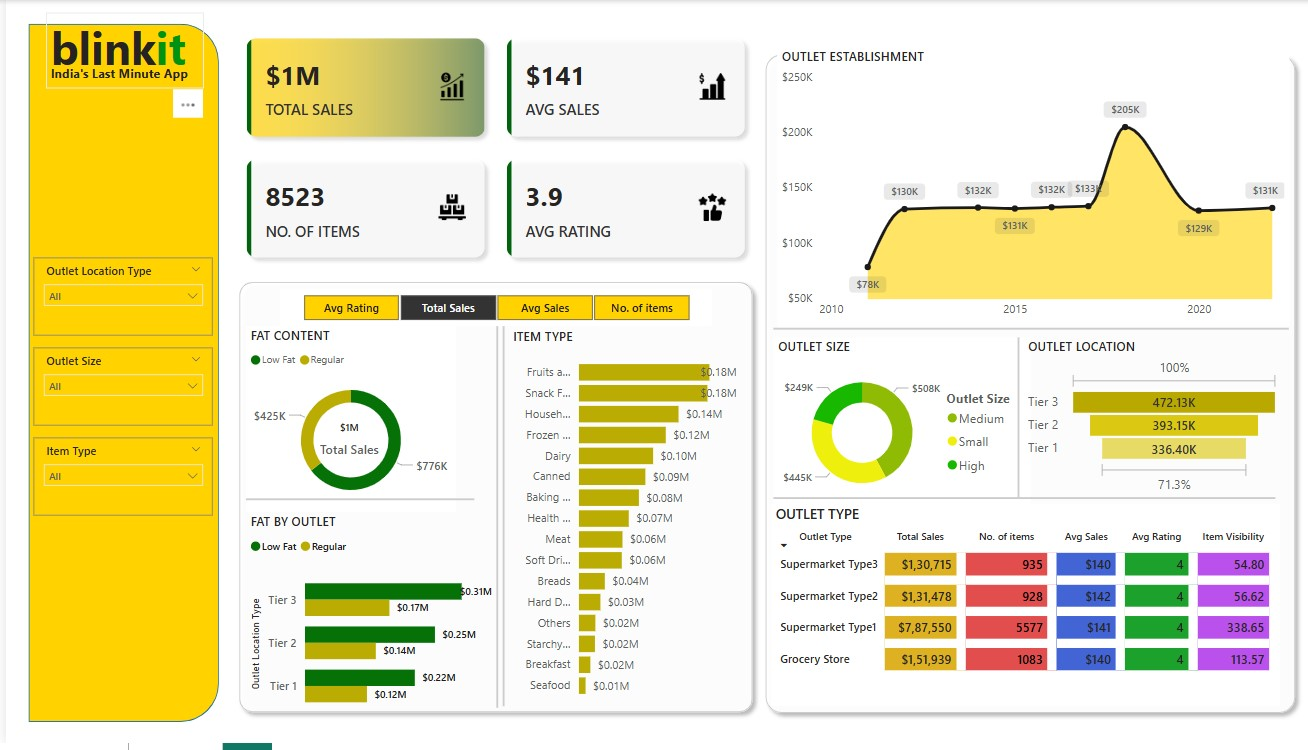

This screenshot's page, from the dashboard's own definition file:
{"tool":"powerbi","page":{"name":"Page 1","canvas":[1400,800],"ordinal":0},"visuals":[{"type":"shape","box":[23.7,25.4,205.1,750.8],"z":0},{"type":"textbox","box":[42.4,13.6,169.5,81.4],"z":1000},{"type":"textbox","box":[42.4,64.4,169.5,61],"z":2000},{"type":"cardVisual","fields":{"Data":["BlinkIT Grocery Data.Total Sales","BlinkIT Grocery Data.Avg Sales","BlinkIT Grocery Data.No. of items","BlinkIT Grocery Data.Avg Rating"]},"box":[242.1,24.6,570.2,270.2],"z":3000},{"type":"shape","box":[242.1,294.7,570.2,480.7],"z":4000},{"type":"donutChart","title":"FAT CONTENT","fields":{"Y":["BlinkIT Grocery Data.Total Sales"],"Category":["BlinkIT Grocery Data.Item Fat Content"]},"box":[257.9,350.9,226.3,200],"z":5000},{"type":"slicer","fields":{"Values":["Metrics.Metrics"]},"box":[294.7,310.5,464.9,40.4],"z":6000},{"type":"cardVisual","fields":{"Data":["BlinkIT Grocery Data.Total Sales"]},"box":[312.3,433.3,115.8,78.9],"z":7000},{"type":"clusteredBarChart","title":"FAT BY OUTLET","fields":{"Y":["BlinkIT Grocery Data.Total Sales"],"Category":["BlinkIT Grocery Data.Outlet Location Type"],"Series":["BlinkIT Grocery Data.Item Fat Content"]},"box":[257.9,550.9,270.2,229.8],"z":8000},{"type":"shape","box":[257.9,401.8,245.6,270.2],"z":9000},{"type":"shape","box":[257.9,350.9,554.4,408.8],"z":10000},{"type":"barChart","title":"ITEM TYPE","fields":{"Y":["BlinkIT Grocery Data.Total Sales"],"Category":["BlinkIT Grocery Data.Item Type"]},"box":[540.4,352.6,250.9,408.8],"z":11000},{"type":"shape","box":[808.8,49.1,587.7,726.3],"z":12000},{"type":"lineChart","title":"OUTLET ESTABLISHMENT","fields":{"Y":["BlinkIT Grocery Data.Total Sales"],"Category":["BlinkIT Grocery Data.Outlet Establishment Year"]},"box":[829.8,50.9,550.9,300],"z":13000},{"type":"shape","box":[826.3,149.1,554.4,408.8],"z":14000},{"type":"donutChart","title":"OUTLET SIZE","fields":{"Y":["BlinkIT Grocery Data.Total Sales"],"Category":["BlinkIT Grocery Data.Outlet Size"]},"box":[826.3,363.2,277.2,187.7],"z":15000},{"type":"shape","box":[812.3,363.2,554.4,173.7],"z":16000},{"type":"funnel","title":"OUTLET LOCATION","fields":{"Y":["Sum(BlinkIT Grocery Data.Sales)"],"Category":["BlinkIT Grocery Data.Outlet Location Type"]},"box":[1094.7,363.2,280.7,171.9],"z":17000},{"type":"shape","box":[250.9,350.9,554.4,410.5],"z":18000},{"type":"shape","box":[826.3,386,540.4,300],"z":19000},{"type":"pivotTable","title":"OUTLET TYPE","fields":{"Values":["BlinkIT Grocery Data.Total Sales","BlinkIT Grocery Data.No. of items","BlinkIT Grocery Data.Avg Sales","BlinkIT Grocery Data.Avg Rating","Sum(BlinkIT Grocery Data.Item Visibility)"],"Rows":["BlinkIT Grocery Data.Outlet Type"]},"box":[822.8,542.1,547.4,217.5],"z":20000},{"type":"slicer","fields":{"Values":["BlinkIT Grocery Data.Outlet Location Type"]},"box":[29.8,277.2,193,84.2],"z":21000},{"type":"slicer","fields":{"Values":["BlinkIT Grocery Data.Outlet Size"]},"box":[29.8,373.7,193,84.2],"z":22000},{"type":"slicer","fields":{"Values":["BlinkIT Grocery Data.Item Type"]},"box":[29.8,470.2,193,84.2],"z":23000}]}

Visuals, with their boxes in screenshot pixels (x1, y1, x2, y2), scaled from the page's 1400x800 canvas onto the 1308x750 screenshot:
shape: (x1=22, y1=24, x2=214, y2=728)
textbox: (x1=40, y1=13, x2=198, y2=89)
textbox: (x1=40, y1=60, x2=198, y2=118)
cardVisual - BlinkIT Grocery Data.Total Sales x BlinkIT Grocery Data.Avg Sales: (x1=226, y1=23, x2=759, y2=276)
shape: (x1=226, y1=276, x2=759, y2=727)
"FAT CONTENT" donutChart: (x1=241, y1=329, x2=452, y2=516)
slicer - Metrics.Metrics: (x1=275, y1=291, x2=710, y2=329)
cardVisual - BlinkIT Grocery Data.Total Sales: (x1=292, y1=406, x2=400, y2=480)
"FAT BY OUTLET" clusteredBarChart: (x1=241, y1=516, x2=493, y2=732)
shape: (x1=241, y1=377, x2=470, y2=630)
shape: (x1=241, y1=329, x2=759, y2=712)
"ITEM TYPE" barChart: (x1=505, y1=331, x2=739, y2=714)
shape: (x1=756, y1=46, x2=1305, y2=727)
"OUTLET ESTABLISHMENT" lineChart: (x1=775, y1=48, x2=1290, y2=329)
shape: (x1=772, y1=140, x2=1290, y2=523)
"OUTLET SIZE" donutChart: (x1=772, y1=340, x2=1031, y2=516)
shape: (x1=759, y1=340, x2=1277, y2=503)
"OUTLET LOCATION" funnel: (x1=1023, y1=340, x2=1285, y2=502)
shape: (x1=234, y1=329, x2=752, y2=714)
shape: (x1=772, y1=362, x2=1277, y2=643)
"OUTLET TYPE" pivotTable: (x1=769, y1=508, x2=1280, y2=712)
slicer - BlinkIT Grocery Data.Outlet Location Type: (x1=28, y1=260, x2=208, y2=339)
slicer - BlinkIT Grocery Data.Outlet Size: (x1=28, y1=350, x2=208, y2=429)
slicer - BlinkIT Grocery Data.Item Type: (x1=28, y1=441, x2=208, y2=520)
